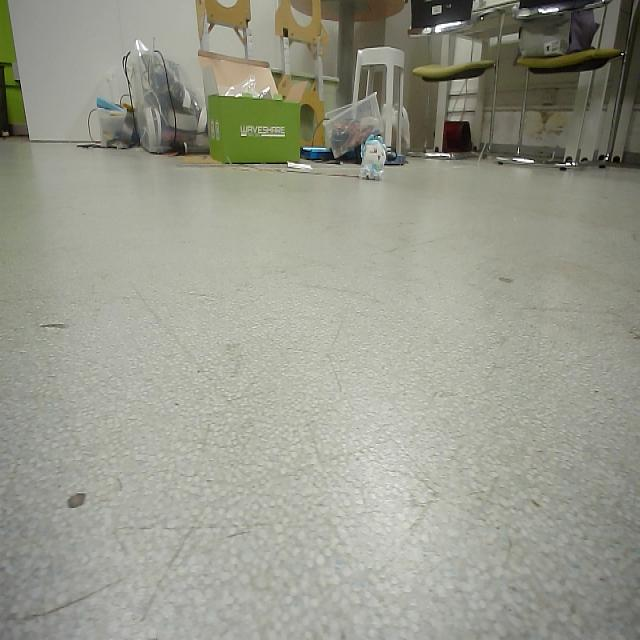xiaoba: (357, 129, 390, 186)
